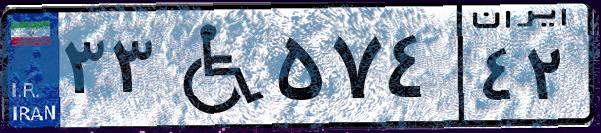2: (525, 38, 570, 115)
3: (57, 26, 110, 100), (110, 28, 158, 98)
4: (385, 28, 445, 110), (475, 38, 525, 113)
5: (270, 28, 330, 110)
7: (330, 28, 385, 110)
ژ (معلولین و جانبازان): (158, 12, 270, 120)
